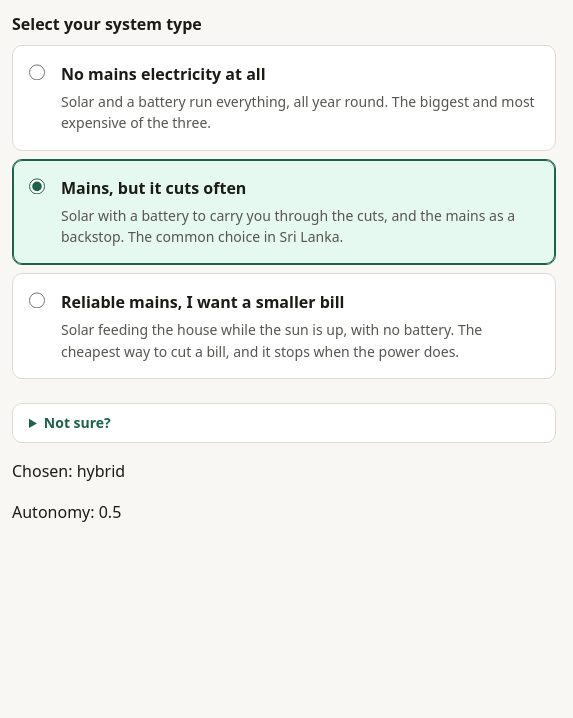
StepSystemType › chooses off-grid for someone with no mains power
This screenshot has width=573, height=718.
Click the heading "Not sure?" at (77, 423), box [44,413,111,432]
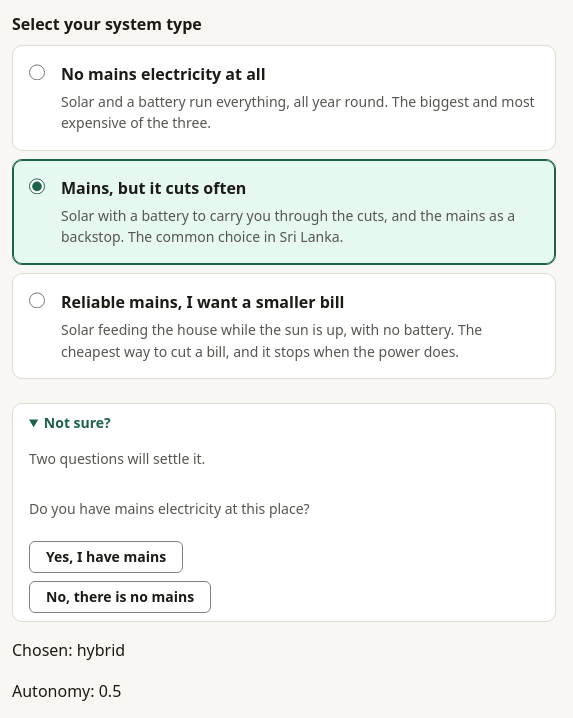
Click the button "No, there is no mains" at (120, 597), box [29,581,211,613]
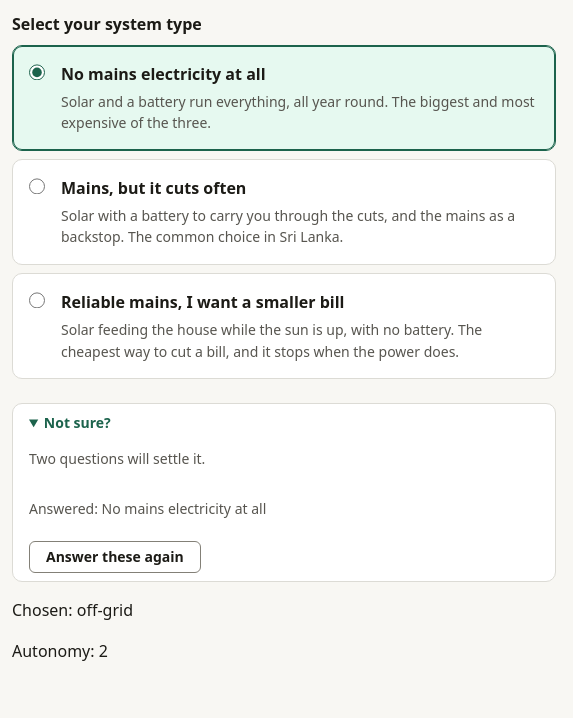
Now the text "Chosen: off-grid" is shown, box [12,599,133,621]
